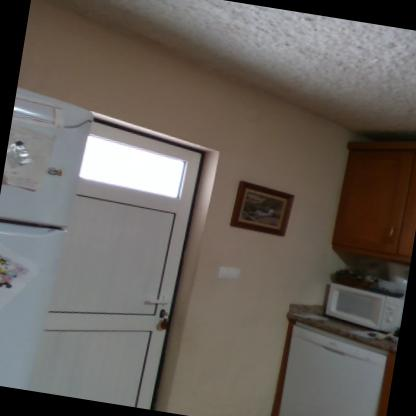closed: (0, 101, 232, 416)
